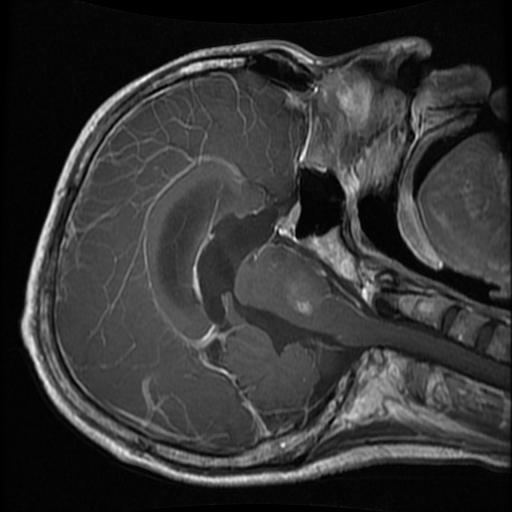glioma: (283, 272, 329, 318)
